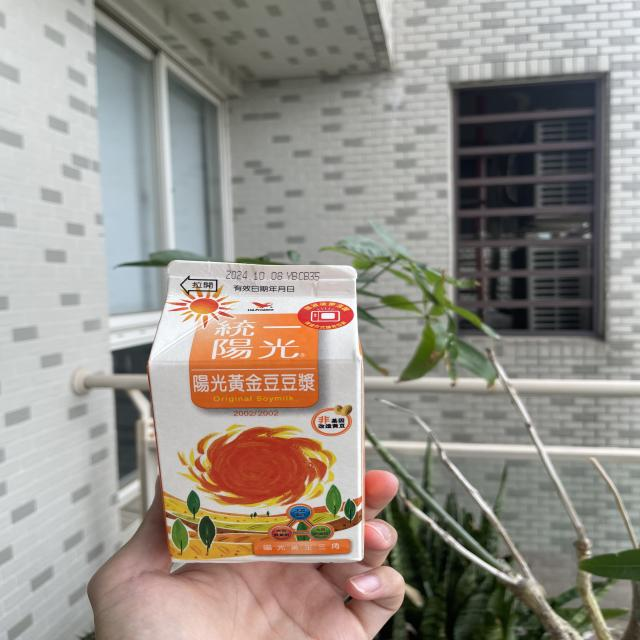TongYi_SoyMilk: (142, 258, 369, 561)
